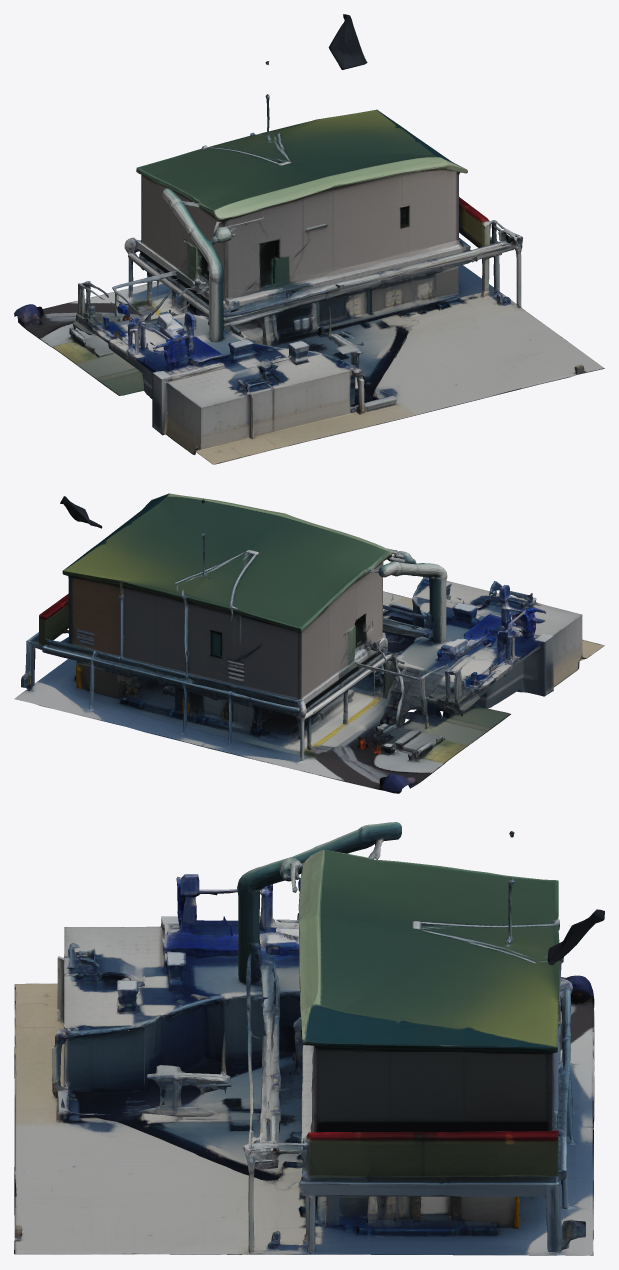
The model's file is Building 2.glb.
3 renders of one model, top to bottom at view 1: azimuth 30°, elevation 25°; view 2: azimuth 150°, elevation 25°; view 3: azimuth 270°, elevation 25°, orthographic. The views are drawn at different scales.
Visible parts, largest first — view 1: world; view 2: world; view 3: world.
Boxes of the visible parts, x1,y1,x2,y2 form: world: (14,14,604,464); world: (14,493,604,793); world: (14,822,604,1255).
Bounding box in the file's own units: 1 × 0.5561 × 0.9204.
1 material, 1 textured.
